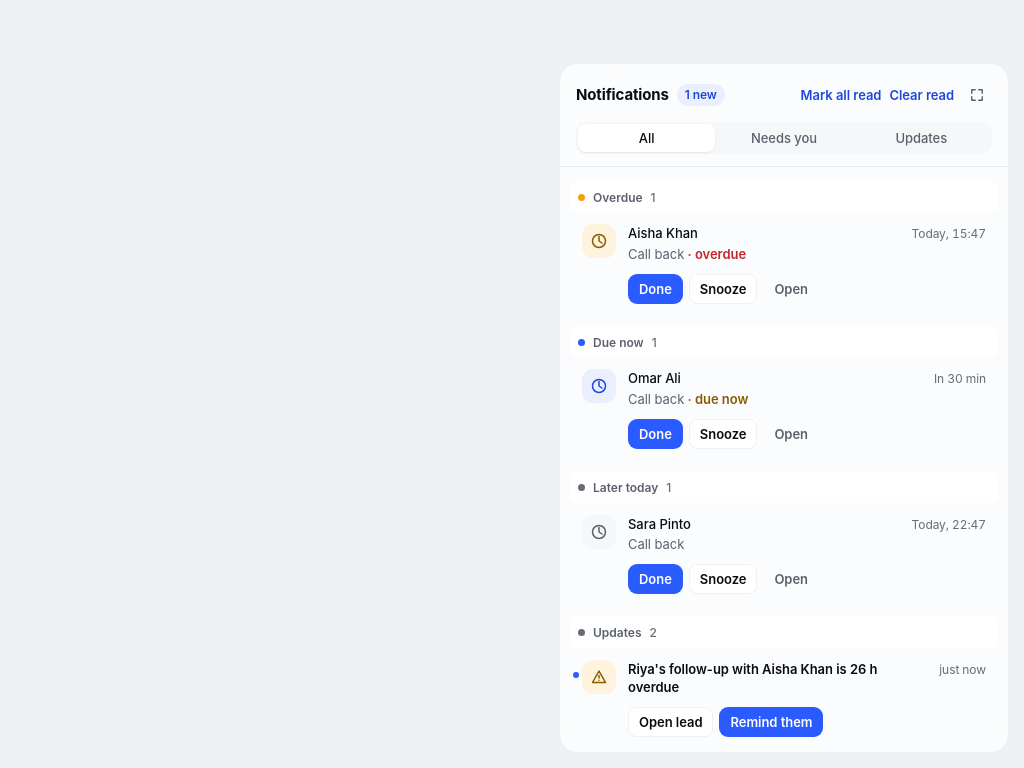
Test: the notification centre (3B Task 5) › Clear read takes the read ones away, keeps the unread, and Undo brings them back
Click the button "Clear read" at [922, 95], box [889,86,954,104]
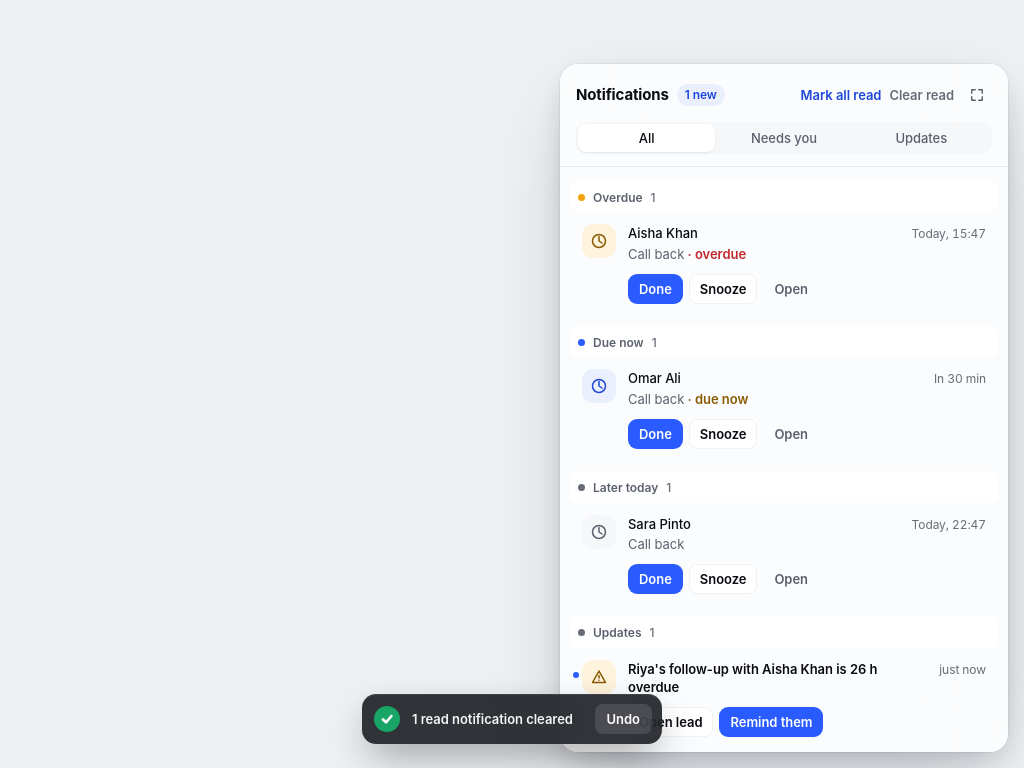
Expected: the text "Karim Aziz was assigned" is not shown
Expected: the text "1 read notification cleared" is shown, [412,710,583,727]
Expected: the button "Clear read" is disabled, [889,86,954,104]
Click the button "Undo" at [623, 719], box [595,704,652,734]
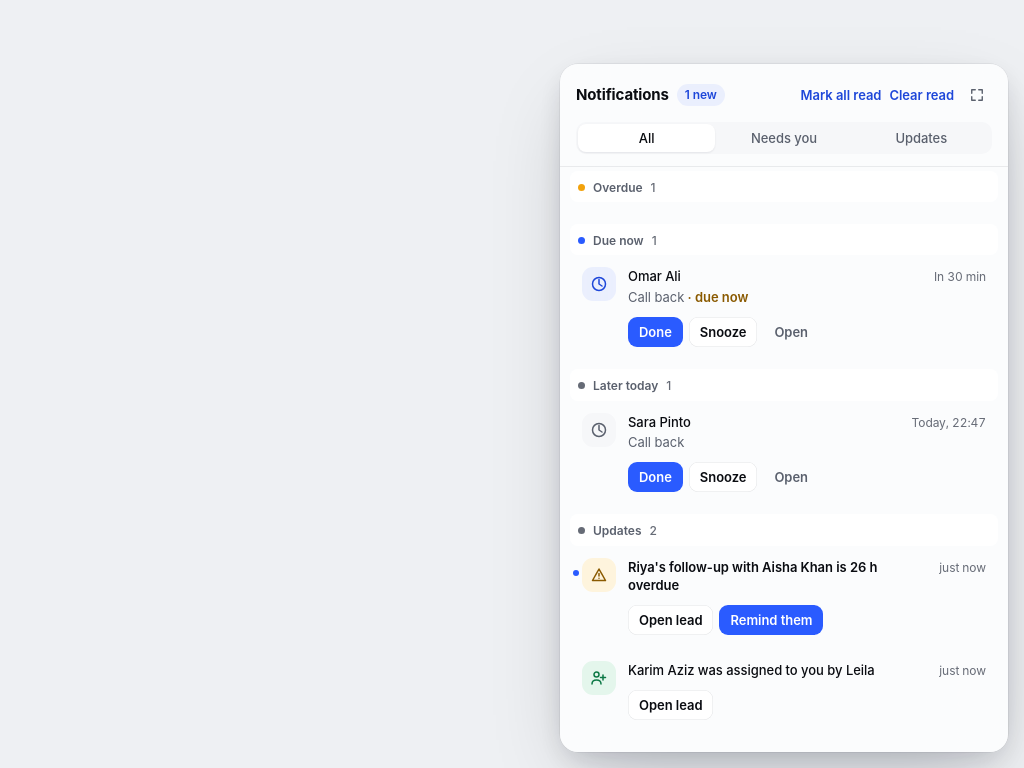
Expected: the text "Karim Aziz was assigned to you by Leila" is shown, [628,662,875,678]
